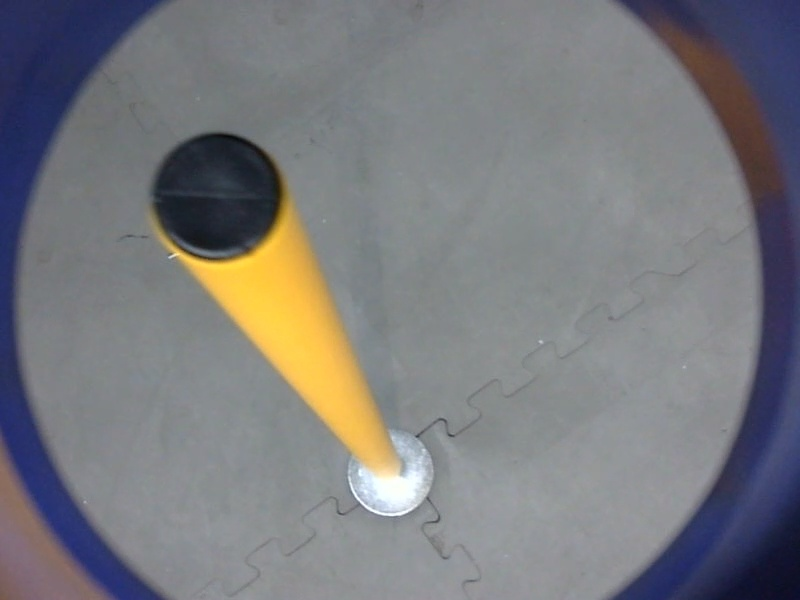tip: (142, 125, 293, 270)
